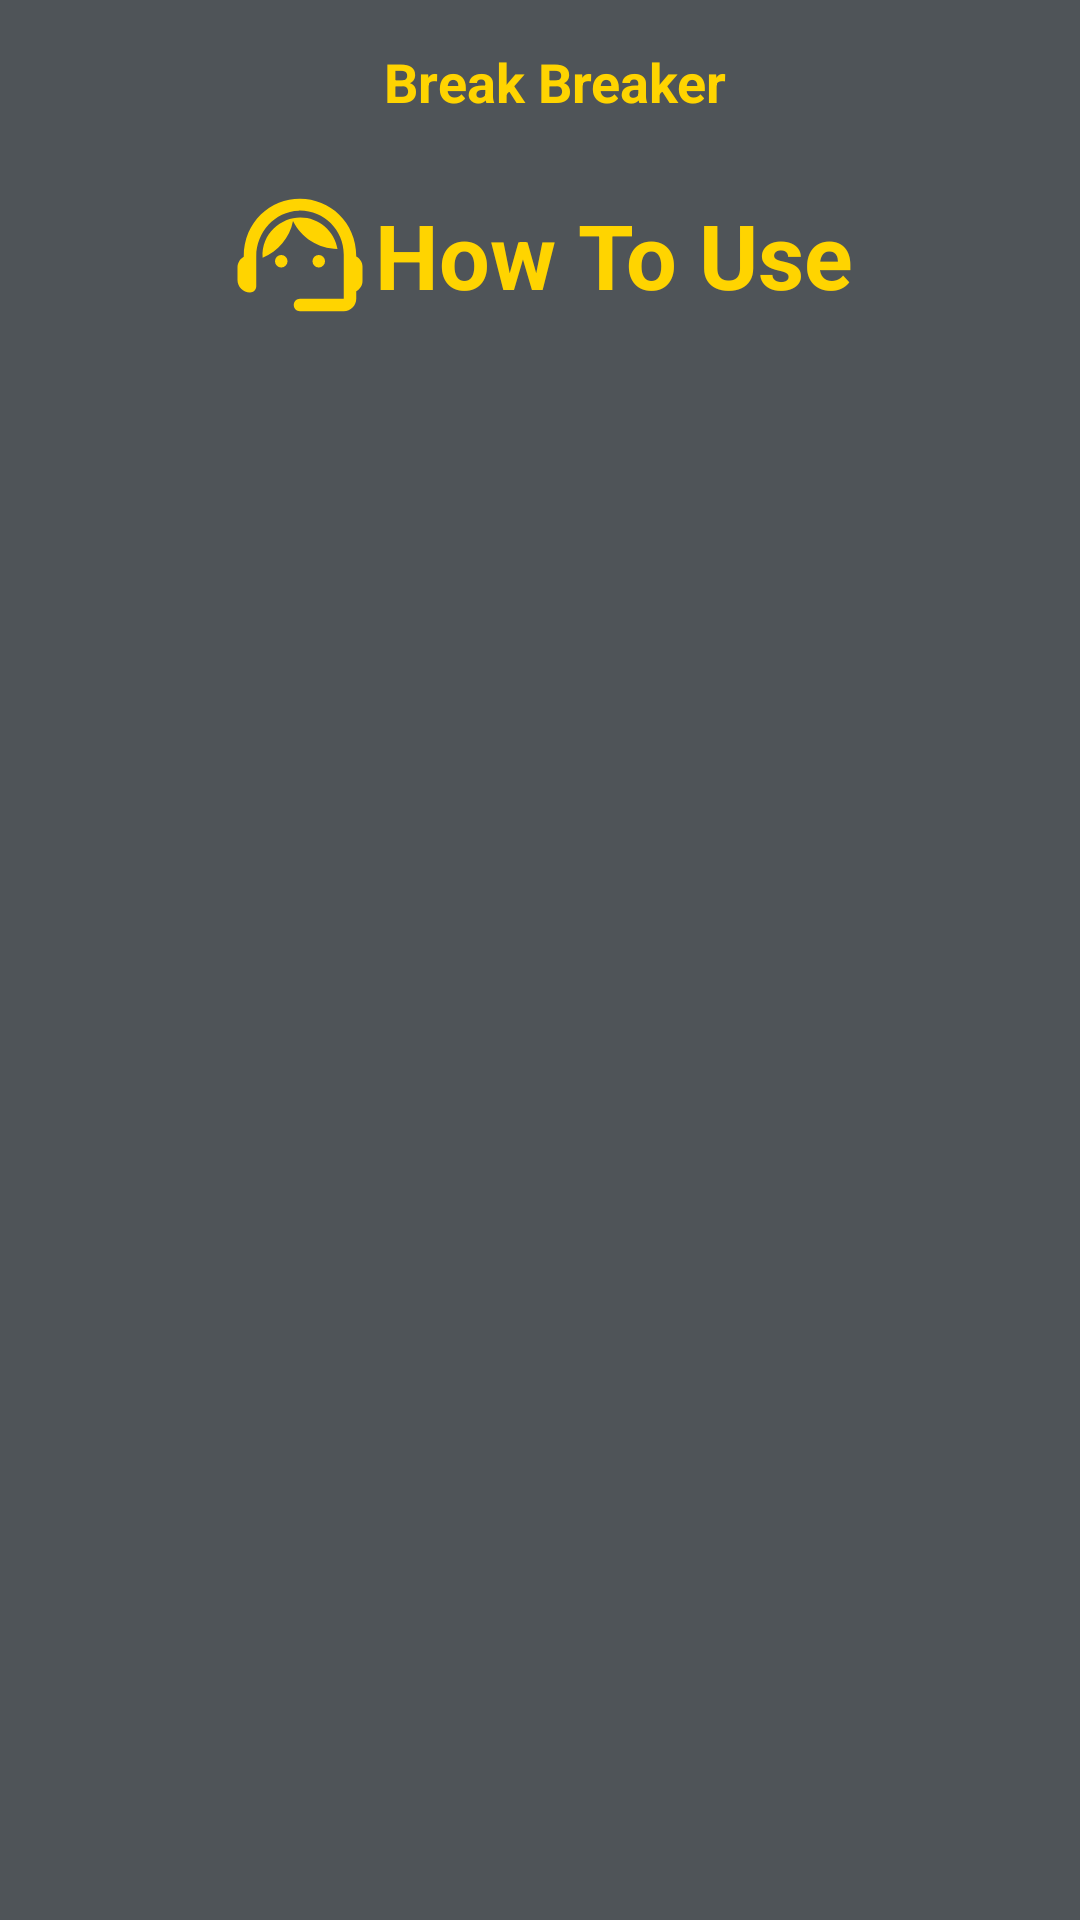

Named icons in this screenshot (1080px×1920px) and their bounding boxes, (x1=x1, y1=y1, x2=x2, y2=y2):
support agent: (x1=237, y1=198, x2=363, y2=312)
